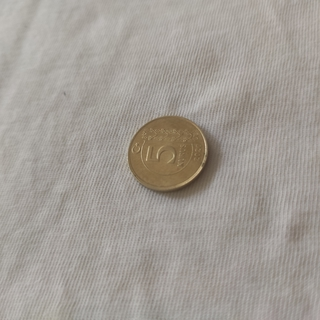5KURUS: (126, 114, 210, 193)
